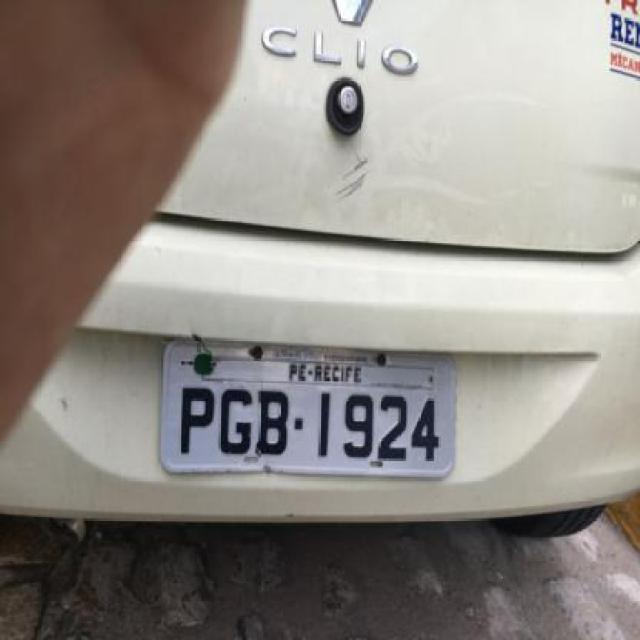old_plate: (147, 329, 469, 487)
